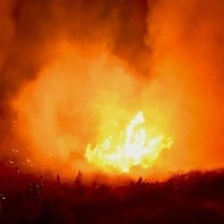fire: (86, 109, 197, 181)
